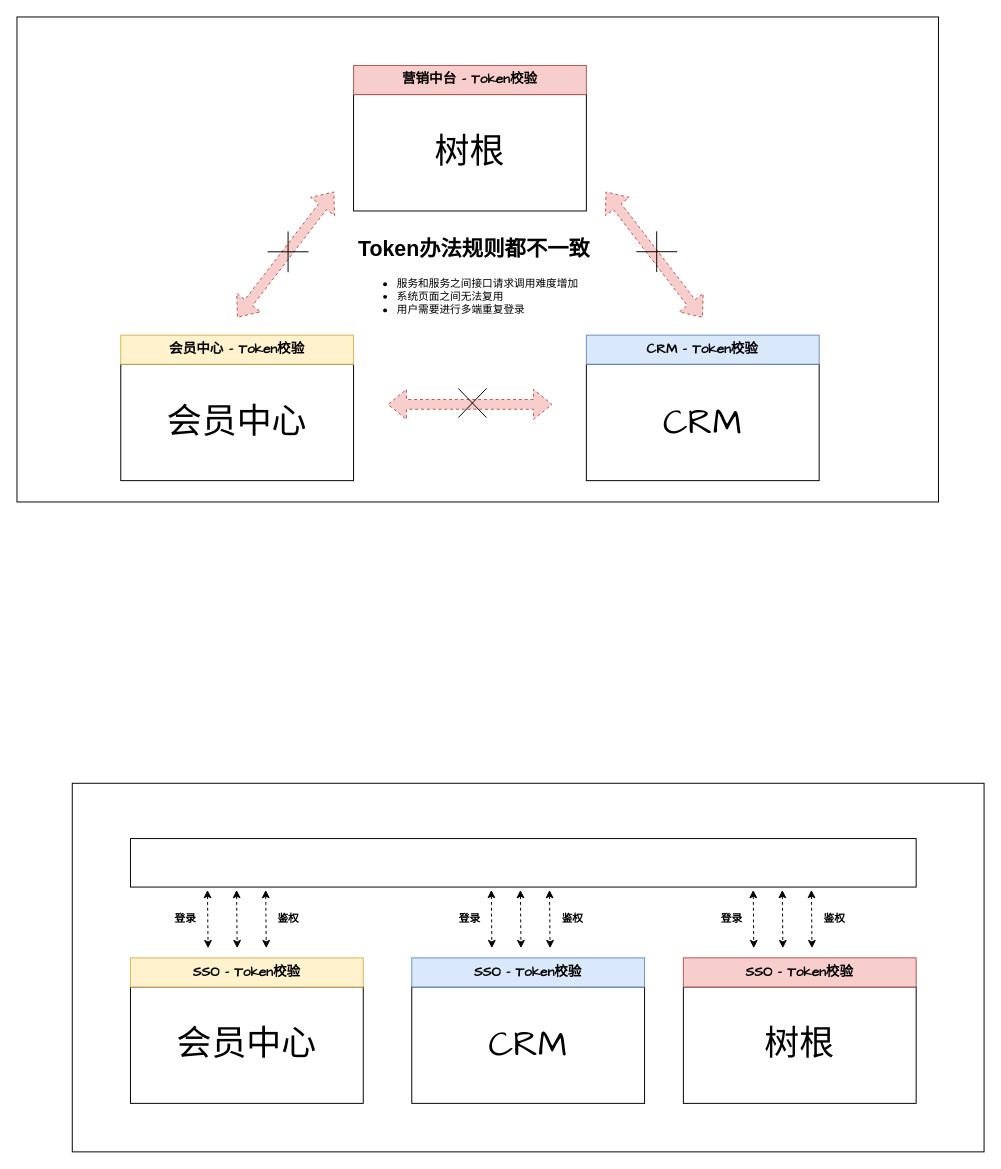
The diagram is 1001 pixels wide and 1169 high, and some of its shapes have lost their labels. The box of each missing label's shape, as (x1, y1, x2, y2) in pixels:
现状: (16, 16, 938, 502)
通用登录（DF-SSO）: (129, 838, 916, 887)
